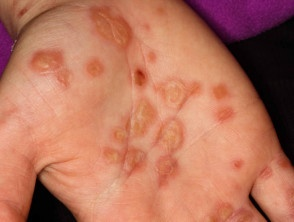SJS-TEN: (14, 0, 255, 216), (27, 47, 77, 90), (203, 199, 256, 222)
